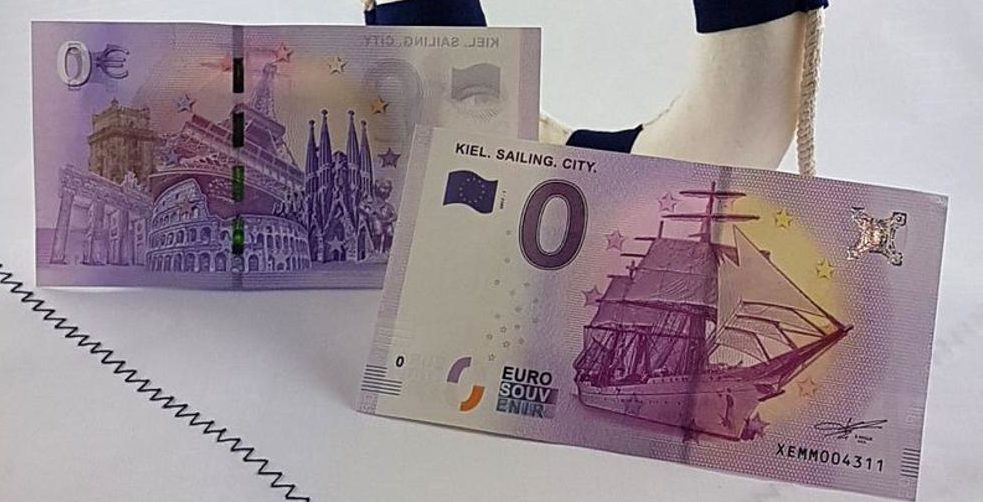billete: (349, 121, 953, 502), (27, 17, 545, 296)
